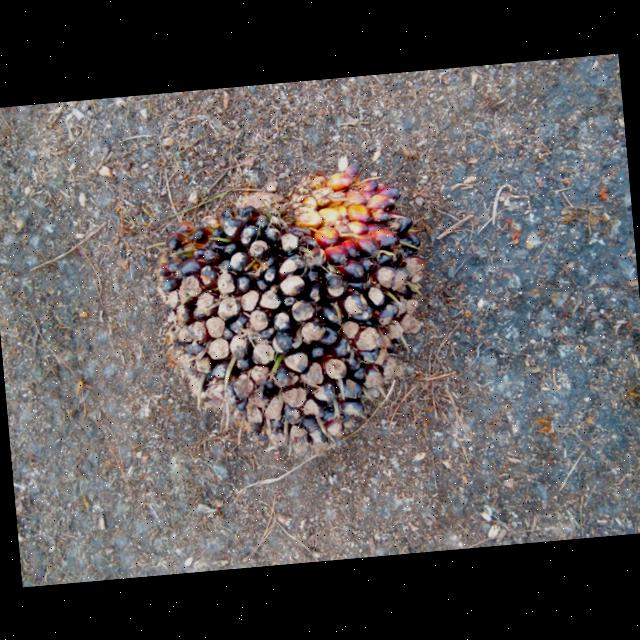Unripe: (153, 159, 426, 453)
